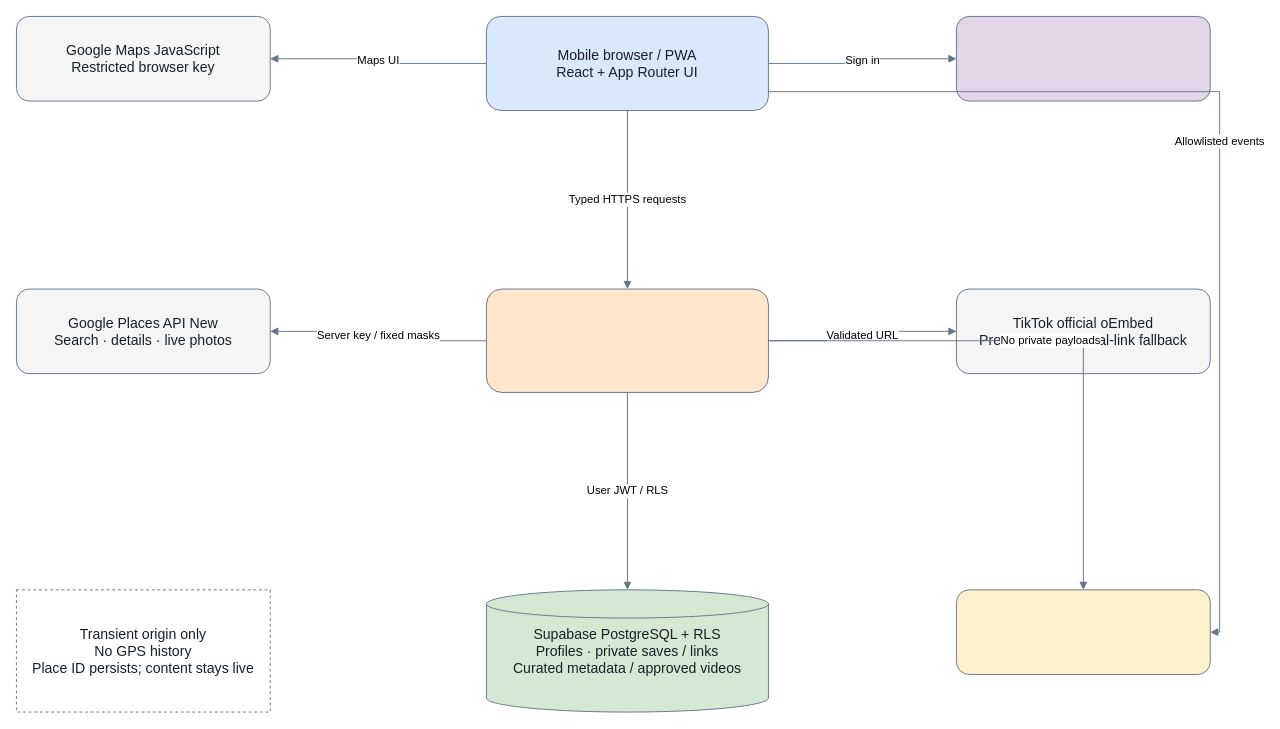
The diagram is 1280 pixels wide and 729 high, and some of its shapes have lost their labels. Here are the shapes that lost their labels. From the top down, the box of each, then its label:
(956, 16, 1210, 101): Supabase Auth Email-link session
(486, 288, 768, 392): Next.js BFF on Vercel Validate · authorize · budget · DTO
(956, 589, 1210, 674): Logs + PostHog Sanitized errors / event allowlist
